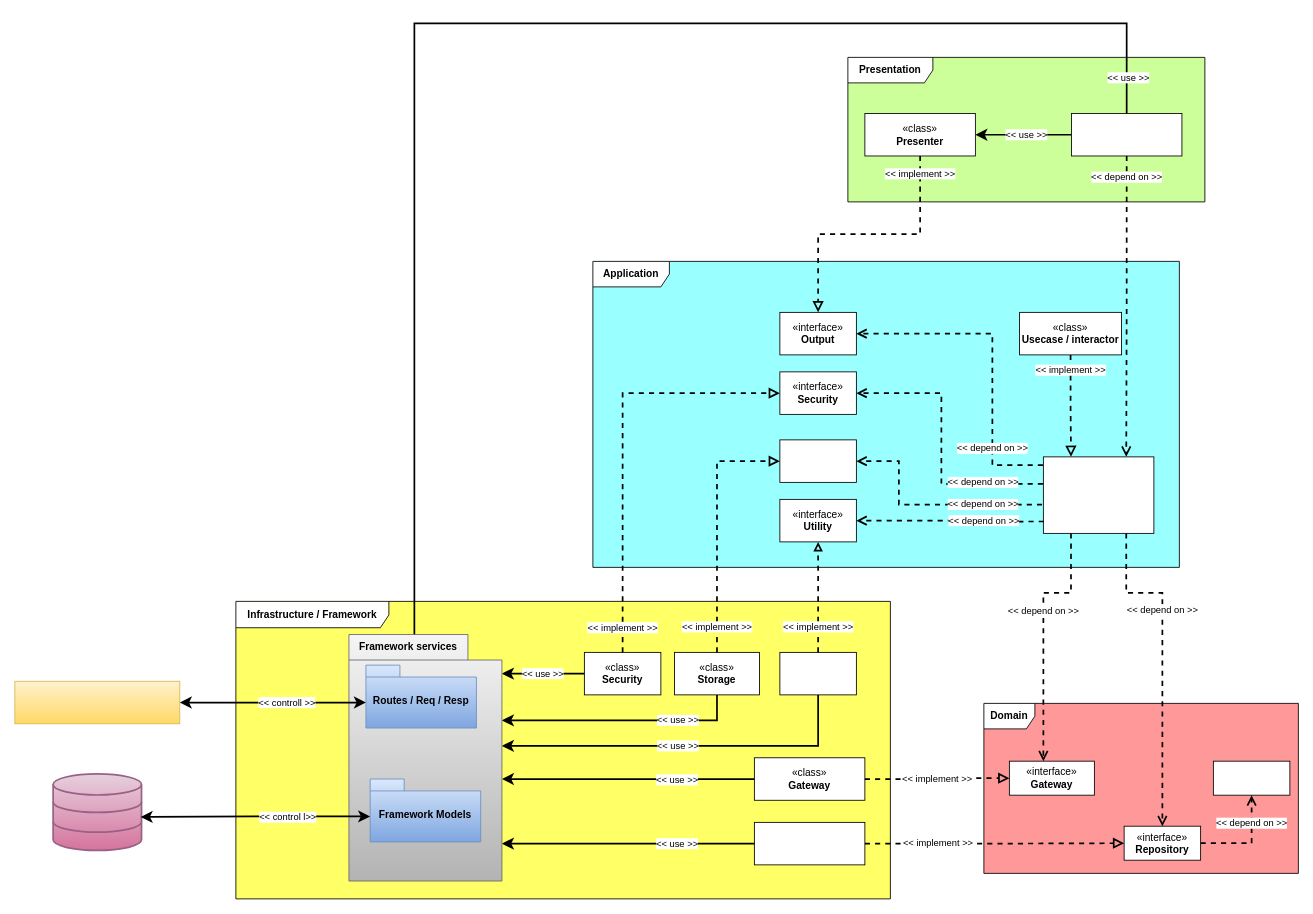
The diagram is 1313 pixels wide and 914 high, and some of its shapes have lost their labels. The shapes that lost their labels are listed below. From the top down, each one's centre as x and y in pixels, then its label:
At point (1126, 134): "«class» Controller".
At point (817, 460): "«interface» Storage".
At point (1098, 494): "«interface» Contract / Input".
At point (817, 673): "«class» Utility".
At point (97, 702): "REQUEST / RESPONSE".
At point (1251, 777): "«class» Entitiy".
At point (97, 812): "Database".
At point (809, 843): "«class» Repository".
